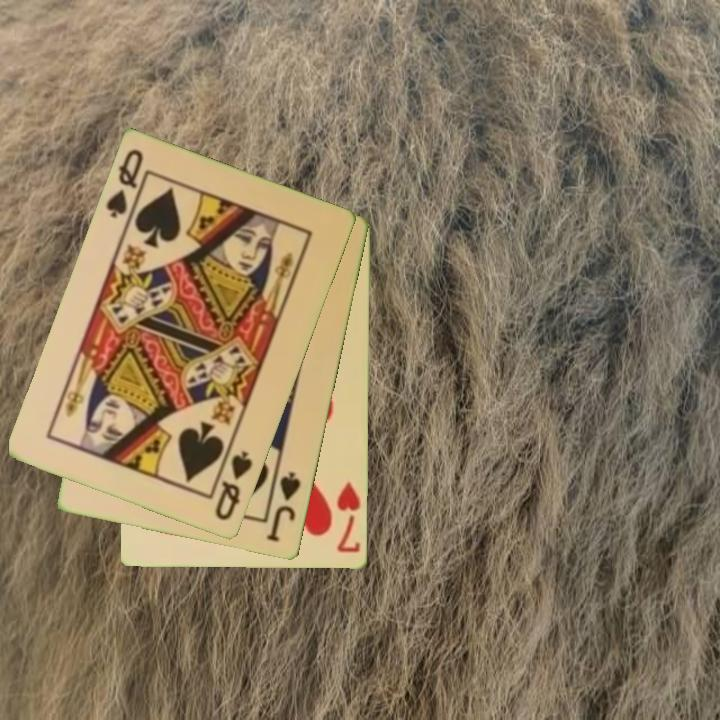7h: (334, 478, 364, 556)
Js: (263, 468, 304, 545)
Qs: (102, 146, 151, 227), (212, 447, 256, 524)
